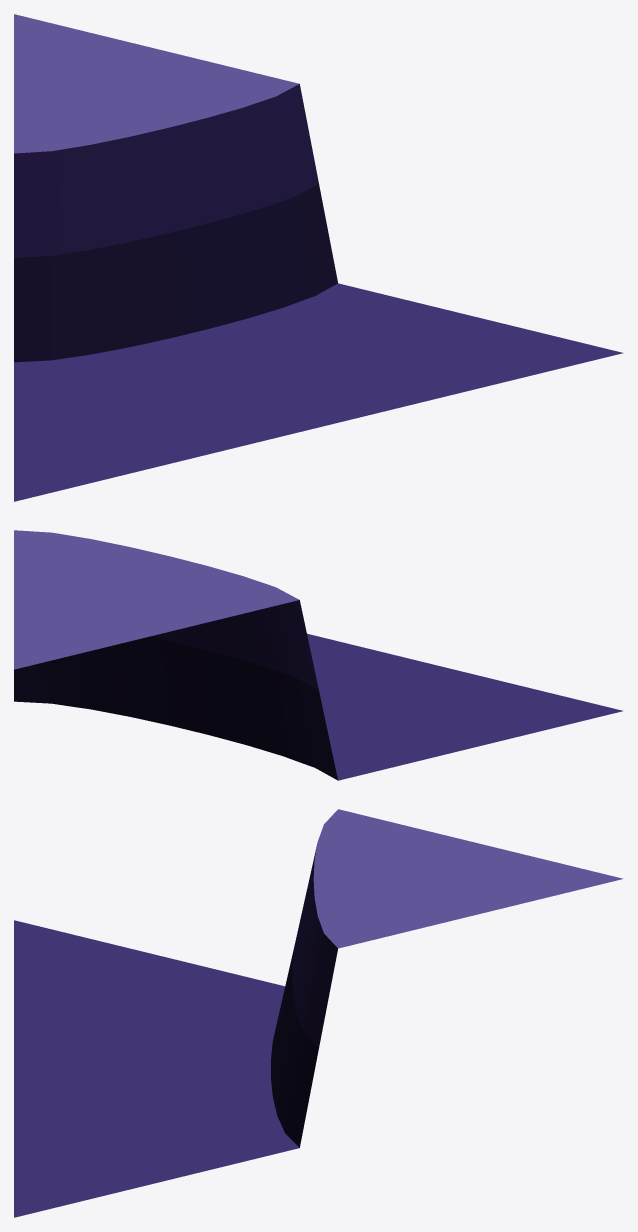
The model's file is MODULE_ALIEN_CLIFF_CORNER_2.fbx.
3 views of the same model, one above another, from view 1: azimuth 30°, elevation 25°; view 2: azimuth 150°, elevation 25°; view 3: azimuth 270°, elevation 25° (orthographic).
Parts seen in each view (by area): view 1: MODULE_ALIEN_CLIFF_CORNER_2__export; view 2: MODULE_ALIEN_CLIFF_CORNER_2__export; view 3: MODULE_ALIEN_CLIFF_CORNER_2__export.
Part boxes in pixels (box(x1,y1,x2,y2)): MODULE_ALIEN_CLIFF_CORNER_2__export: box(14, 14, 623, 501); MODULE_ALIEN_CLIFF_CORNER_2__export: box(14, 530, 622, 780); MODULE_ALIEN_CLIFF_CORNER_2__export: box(14, 809, 623, 1217).
Size of the model in its own units: 100 by 29.78 by 86.6.
